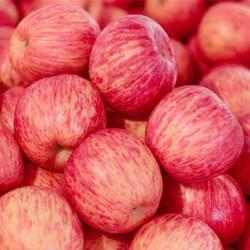apple: (62, 130, 162, 235), (90, 9, 183, 114), (145, 91, 243, 187), (15, 72, 108, 168), (8, 4, 101, 82), (159, 172, 247, 244), (1, 183, 85, 249)
